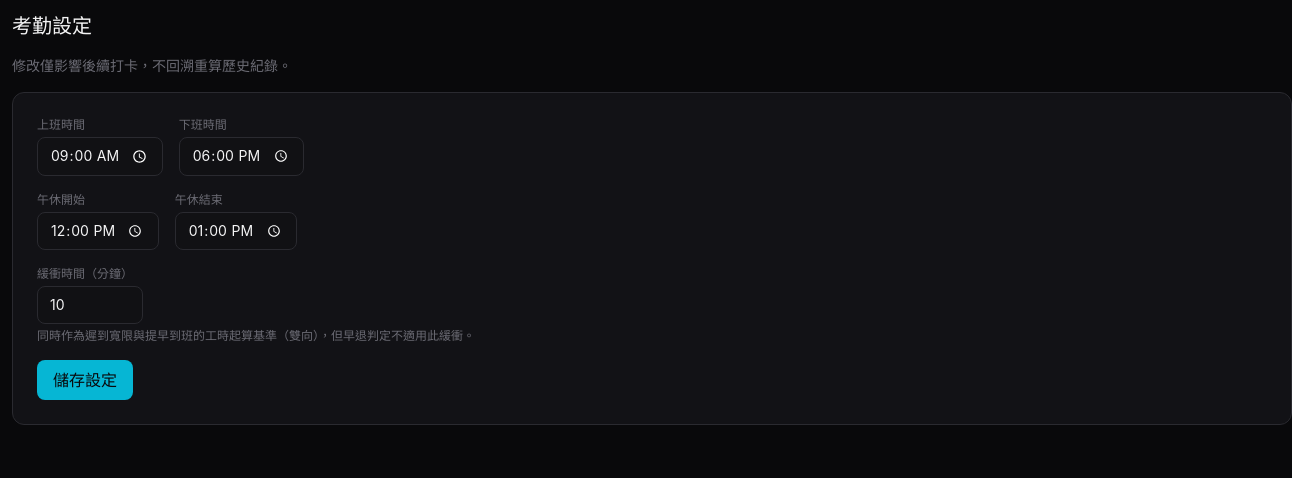
Test: 成功送出後顯示設定已更新並以後端回傳值回填
Step 1. Replace the text in the time field labelled "上班時間" with "08:30" → (100, 156), box [37, 137, 163, 176]
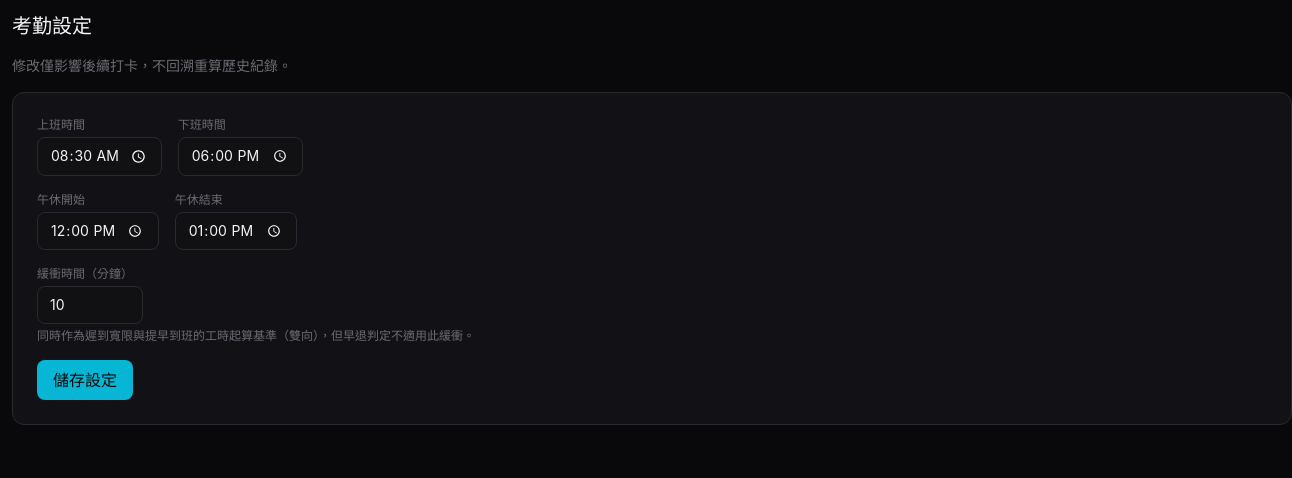
Step 2. Replace the text in the number field labelled "緩衝時間（分鐘）" with "15" → (90, 305), box [37, 286, 143, 324]
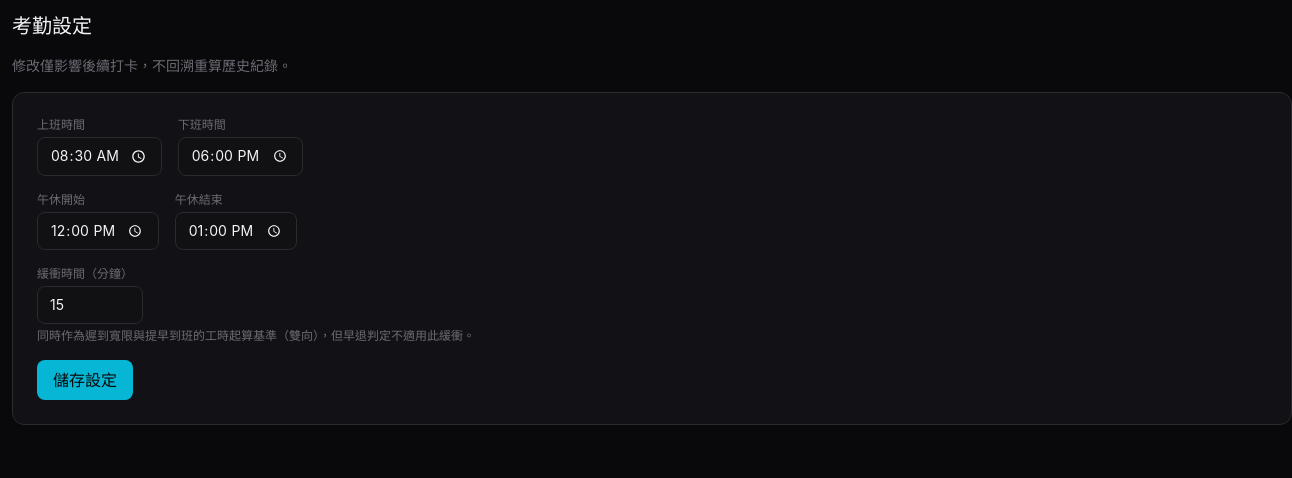
Step 3. Click the button "儲存設定" → (85, 380), box [37, 360, 133, 400]
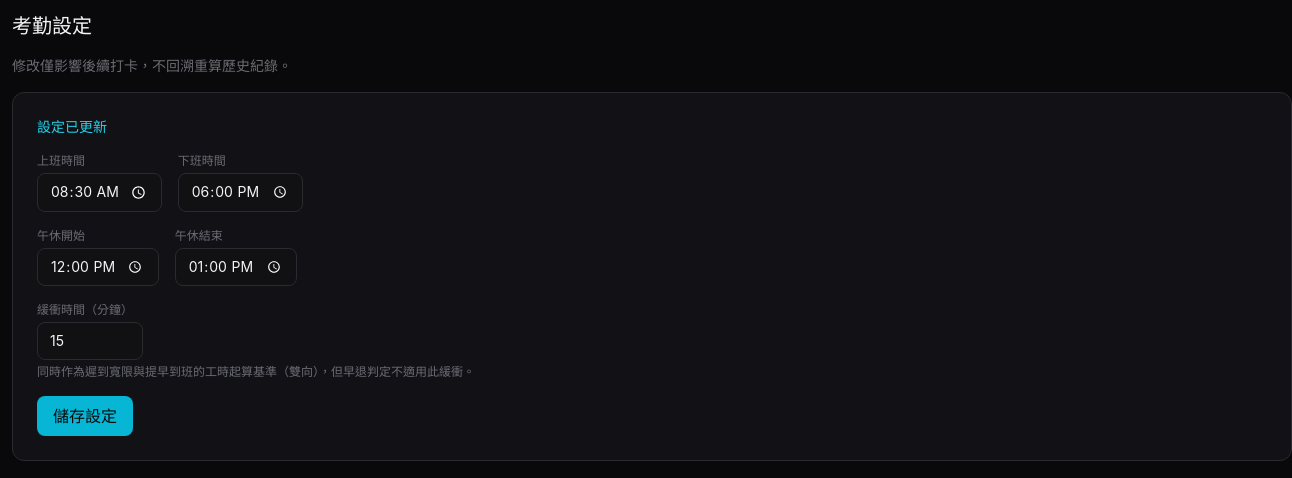
Expected: the text "設定已更新" is shown, [37, 118, 107, 135]
